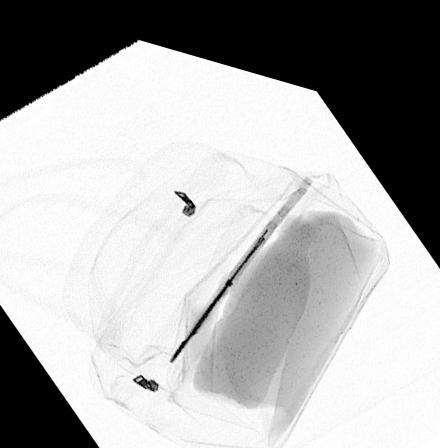Scissors: (165, 155, 314, 352)
